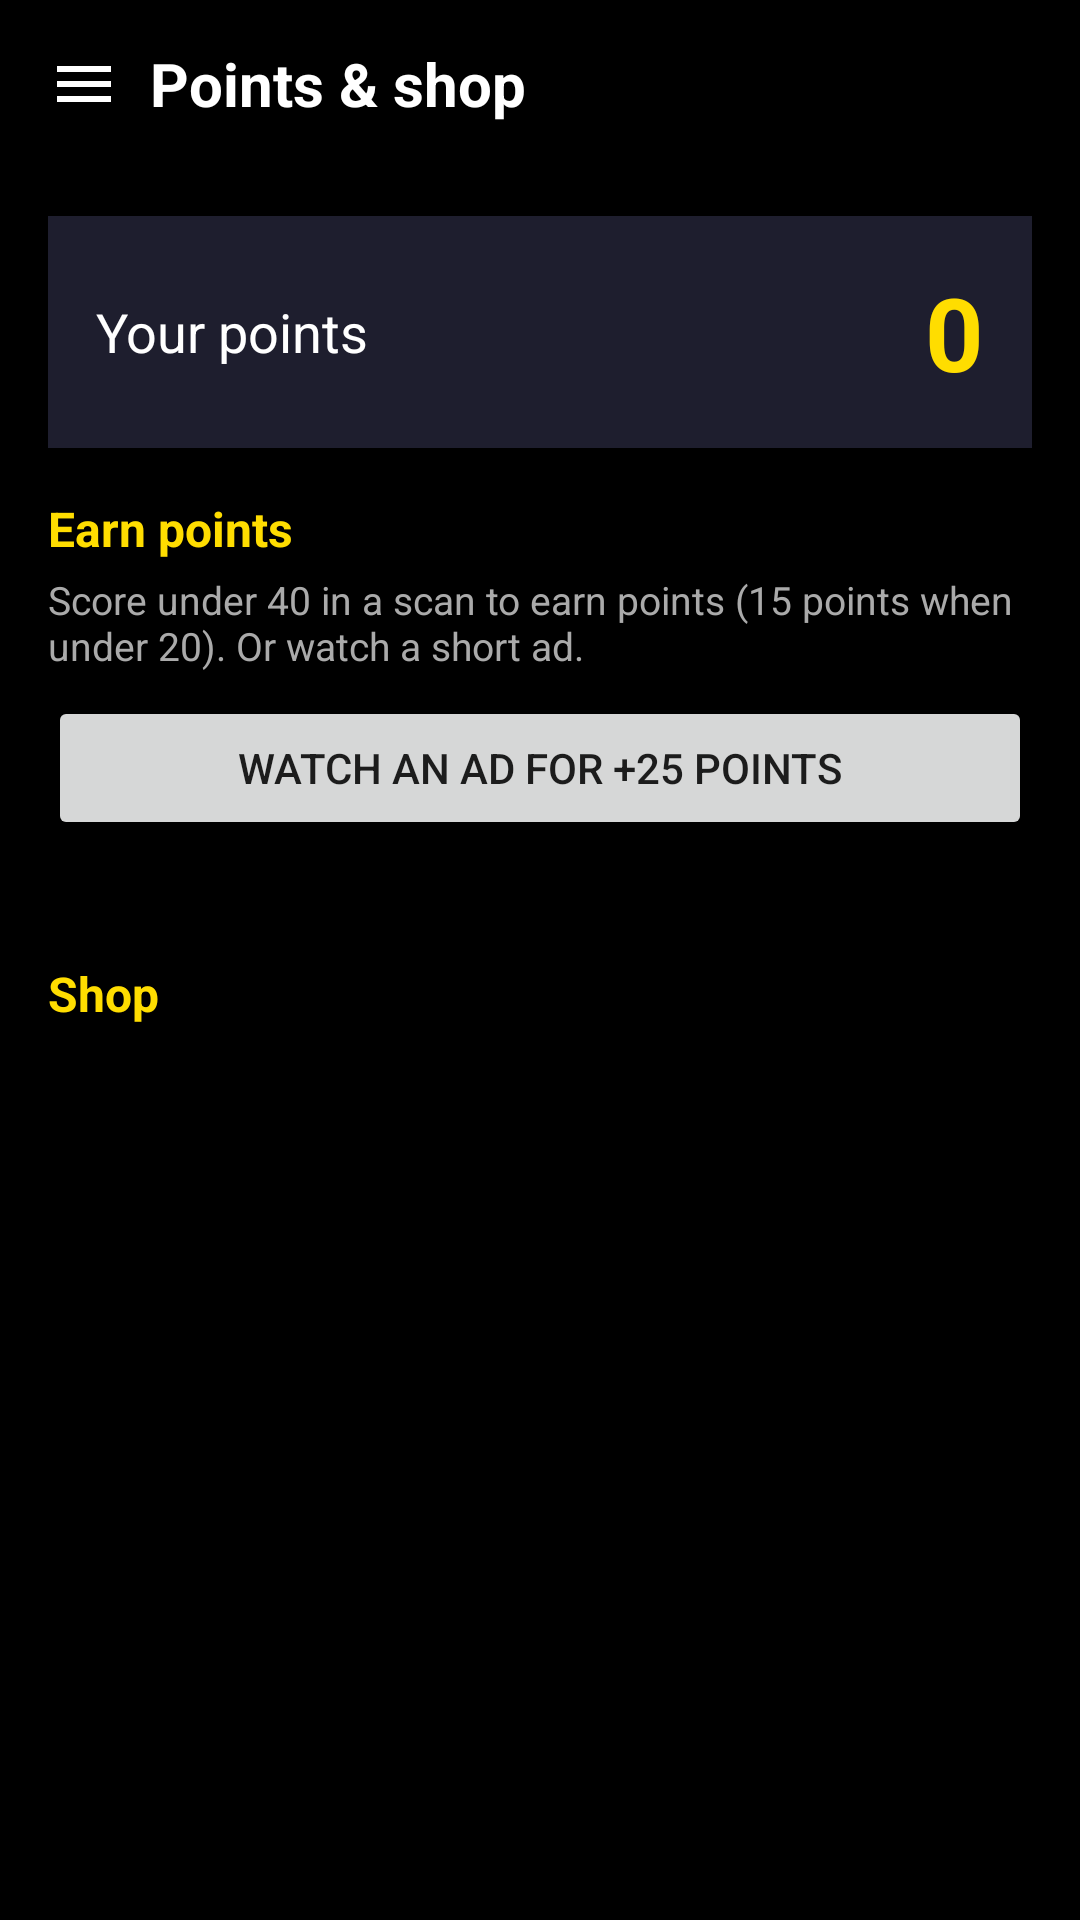

Screen size 1080px×1920px. Icon name, then its box in pixels as (x1, y1, x2, y2):
Open menu: (57, 66, 111, 102)
